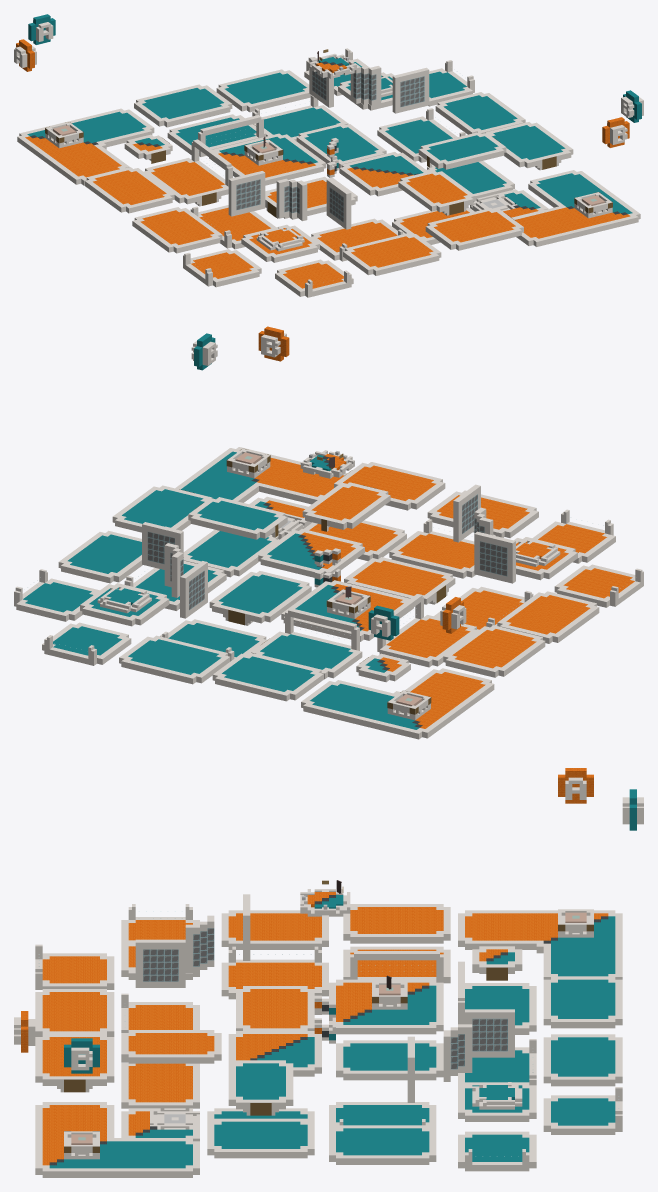
Rendered from minecraft.obj.
3 views of the same model, one above another, from view 1: azimuth 30°, elevation 25°; view 2: azimuth 150°, elevation 25°; view 3: azimuth 270°, elevation 25° (orthographic). The views are drawn at different scales.
Size of the model in its own units: 88 by 26.96 by 88.
